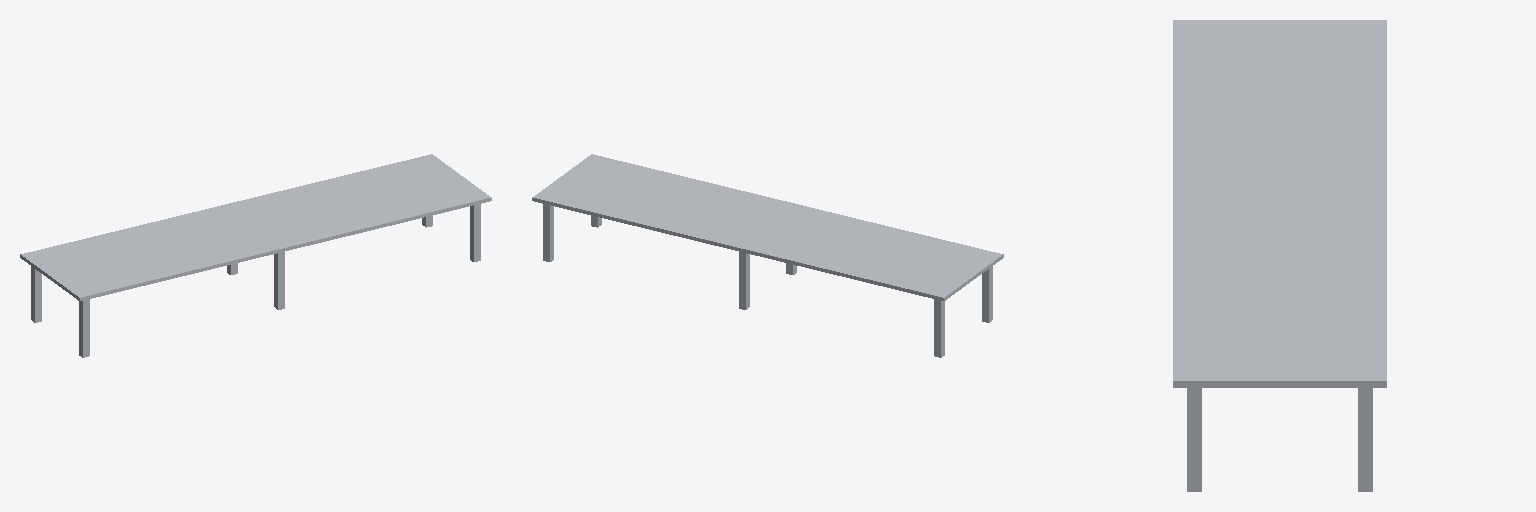
robot.urdf — minihannover:
<?xml version="1.0" encoding="utf-8"?>
<!-- Generated by scripts/generate_minihannover.py - do not edit by hand. -->
<robot name="minihannover">
  <!-- Hints for MuJoCo's URDF loader; ignored by every other importer. -->
  <mujoco>
    <compiler meshdir="." balanceinertia="true" discardvisual="false"/>
  </mujoco>

  <material name="minihannover_top">
    <color rgba="0.78 0.8 0.82 1"/>
  </material>

  <link name="base_link">
    <inertial>
      <origin xyz="0 0 0.823398" rpy="0 0 0"/>
      <mass value="355.8"/>
      <inertia ixx="83.621212" ixy="0" ixz="0" iyy="1175.802712" iyz="0" izz="1239.7505"/>
    </inertial>
    <visual>
      <origin xyz="0 0 0" rpy="0 0 0"/>
      <geometry><mesh filename="minihannover.obj" scale="1 1 1"/></geometry>
      <material name="minihannover_top"/>
    </visual>
    <collision>
      <origin xyz="0 0 0.875" rpy="0 0 0"/>
      <geometry><box size="6 1.5 0.05"/></geometry>
    </collision>
    <collision>
      <origin xyz="-2.85 -0.6 0.425" rpy="0 0 0"/>
      <geometry><box size="0.1 0.1 0.85"/></geometry>
    </collision>
    <collision>
      <origin xyz="-2.85 0.6 0.425" rpy="0 0 0"/>
      <geometry><box size="0.1 0.1 0.85"/></geometry>
    </collision>
    <collision>
      <origin xyz="0 -0.6 0.425" rpy="0 0 0"/>
      <geometry><box size="0.1 0.1 0.85"/></geometry>
    </collision>
    <collision>
      <origin xyz="0 0.6 0.425" rpy="0 0 0"/>
      <geometry><box size="0.1 0.1 0.85"/></geometry>
    </collision>
    <collision>
      <origin xyz="2.85 -0.6 0.425" rpy="0 0 0"/>
      <geometry><box size="0.1 0.1 0.85"/></geometry>
    </collision>
    <collision>
      <origin xyz="2.85 0.6 0.425" rpy="0 0 0"/>
      <geometry><box size="0.1 0.1 0.85"/></geometry>
    </collision>
  </link>
</robot>

--- Facts derived from the render (not from the file) ---
Views: 3 orthographic renders of the robot side by side, from view 1: azimuth 30°, elevation 25°; view 2: azimuth 150°, elevation 25°; view 3: azimuth 270°, elevation 25°.
Robot: minihannover — 1 links, 0 joints (none); root link base_link; default pose: every joint at zero.
Links seen in each view (by area): view 1: base_link; view 2: base_link; view 3: base_link.
Link boxes in pixels (<box>): base_link: <box>20,154,491,357</box>; base_link: <box>532,154,1003,357</box>; base_link: <box>1173,20,1386,491</box>.
Size in the robot's own frame: 6 by 1.5 by 0.9 metres.
Meshes: 1 distinct files referenced, 1 mesh visuals loaded (1 OBJ).
